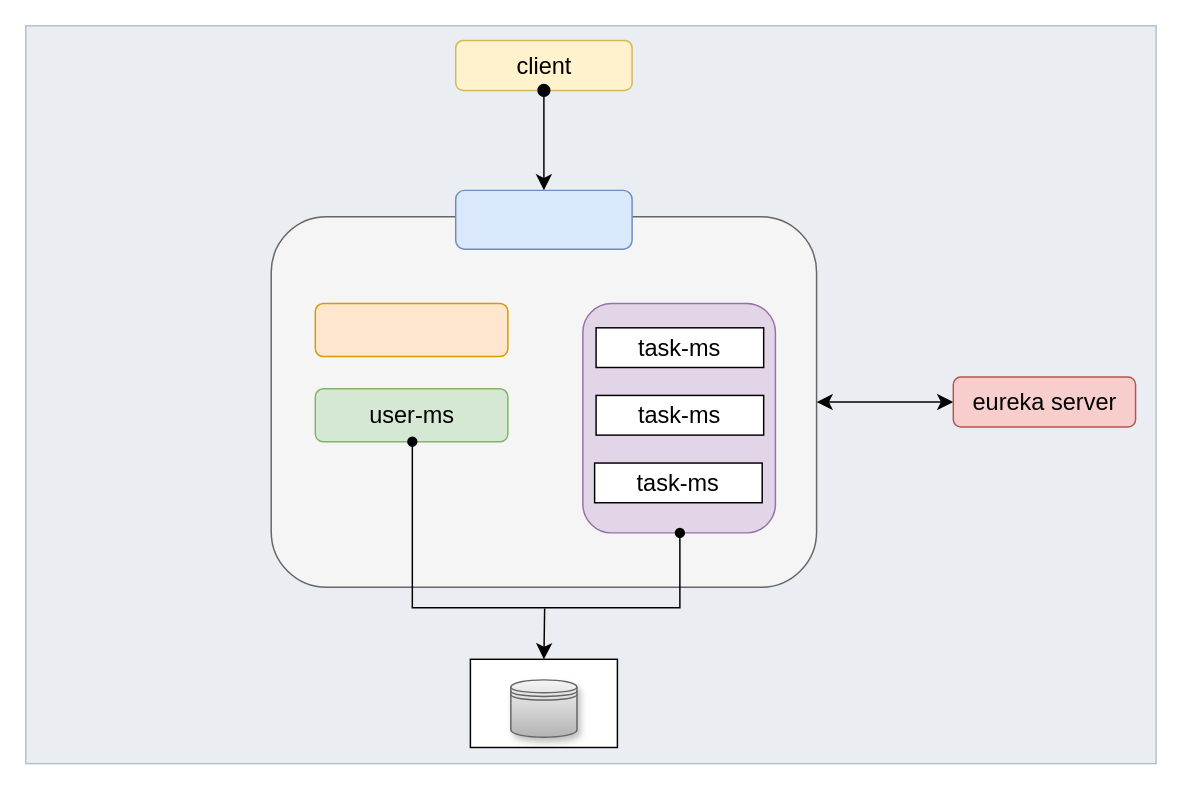
Image size: 1182x789. Some labels were removed from this diagram. Each missing label, with the centre of its shape:
"auth-ms" goes at point 411,329.
"gateway - ms" goes at point 543,219.
